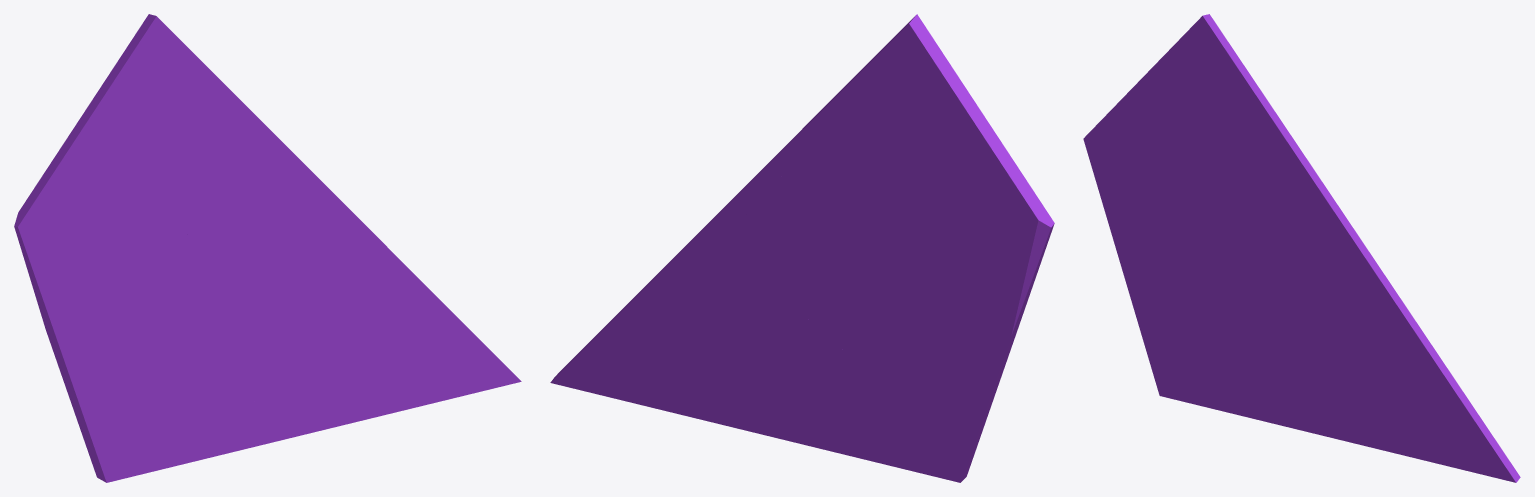
File: Window_41_5_chunks.fbx
3 views of the same model, side by side, from view 1: azimuth 30°, elevation 25°; view 2: azimuth 150°, elevation 25°; view 3: azimuth 330°, elevation 25° (orthographic). The views are drawn at different scales.
Parts seen in each view (by area): view 1: Window_41_5_2, Window_41_5_1, Window_41_5_3, Window_41_5_5, Window_41_5_7, Window_41_5_6, Window_41_5_0, Window_41_5_4, Window_41_5_8; view 2: Window_41_5_2, Window_41_5_1, Window_41_5_4, Window_41_5_3, Window_41_5_7, Window_41_5_6, Window_41_5_9, Window_41_5_8, Window_41_5_5, Window_41_5_0; view 3: Window_41_5_2, Window_41_5_1, Window_41_5_3, Window_41_5_5, Window_41_5_7, Window_41_5_6, Window_41_5_0, Window_41_5_4, Window_41_5_8.
Boxes of the visible parts, x1,y1,x2,y2 form: Window_41_5_2: (14, 14, 252, 271); Window_41_5_1: (42, 288, 282, 482); Window_41_5_3: (171, 113, 277, 351); Window_41_5_5: (276, 137, 419, 313); Window_41_5_7: (283, 350, 521, 439); Window_41_5_6: (218, 300, 344, 439); Window_41_5_0: (28, 257, 172, 339); Window_41_5_4: (354, 279, 493, 353); Window_41_5_8: (333, 310, 479, 353); Window_41_5_2: (811, 14, 1054, 289); Window_41_5_1: (778, 279, 1016, 482); Window_41_5_4: (564, 205, 790, 369); Window_41_5_3: (781, 110, 894, 348); Window_41_5_7: (550, 350, 752, 432); Window_41_5_6: (729, 304, 842, 420); Window_41_5_9: (710, 347, 790, 438); Window_41_5_8: (608, 320, 736, 359); Window_41_5_5: (664, 138, 793, 267); Window_41_5_0: (945, 255, 1043, 333); Window_41_5_2: (1083, 14, 1294, 233); Window_41_5_1: (1117, 252, 1310, 432); Window_41_5_3: (1215, 139, 1319, 329); Window_41_5_5: (1305, 170, 1428, 353); Window_41_5_7: (1311, 384, 1520, 482); Window_41_5_6: (1255, 310, 1363, 431); Window_41_5_0: (1092, 170, 1216, 255); Window_41_5_4: (1369, 252, 1508, 459); Window_41_5_8: (1354, 343, 1479, 437).
Size of the model in its own units: 991 by 854 by 27.2.
